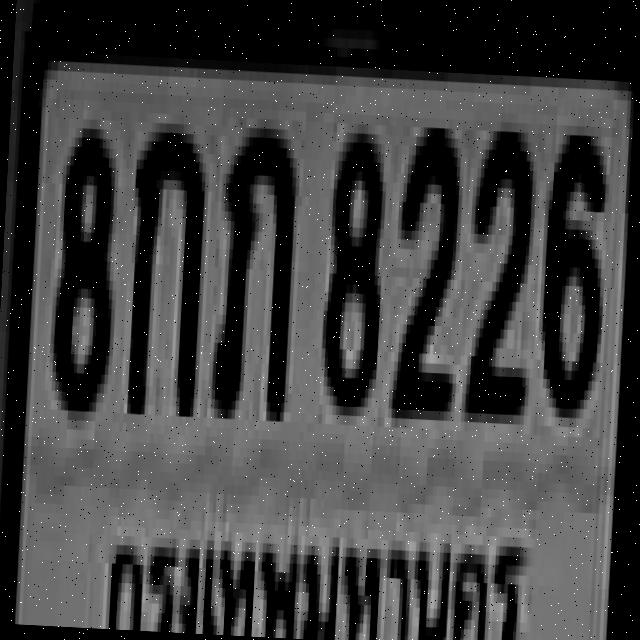10GorGai: (121, 116, 205, 402)
2: (387, 117, 461, 412), (462, 116, 536, 411)
41PhorSamPhao: (208, 116, 300, 412)
6: (536, 120, 606, 405)
8: (48, 113, 118, 398), (319, 122, 386, 408)
Bangkok: (102, 488, 526, 640)
